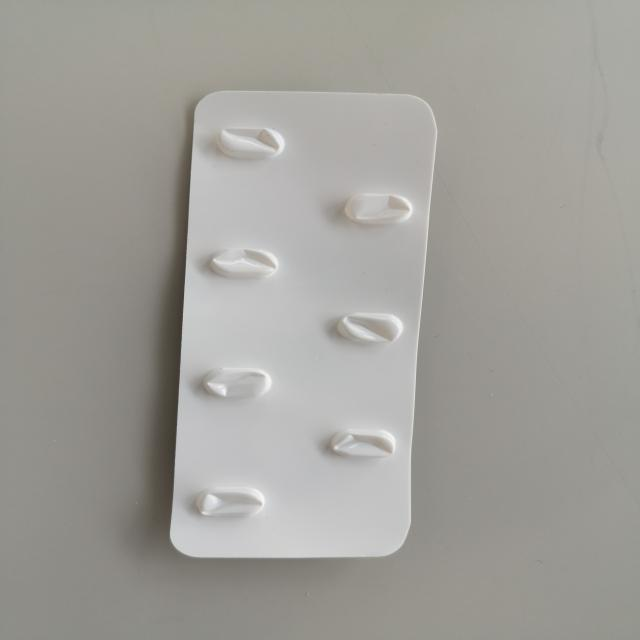Empty: (193, 237, 294, 292), (196, 118, 299, 171), (318, 300, 415, 355), (309, 416, 406, 471), (322, 181, 426, 232), (181, 476, 284, 527), (191, 362, 282, 412)
